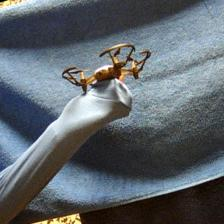drone: (60, 42, 150, 96)
